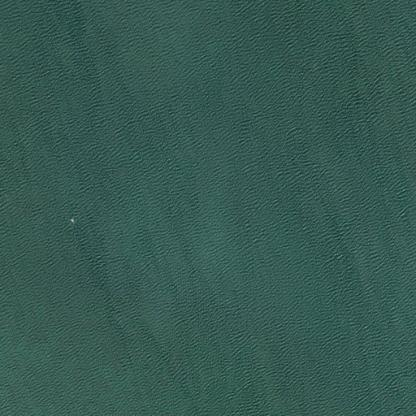ship: (62, 212, 80, 228)
